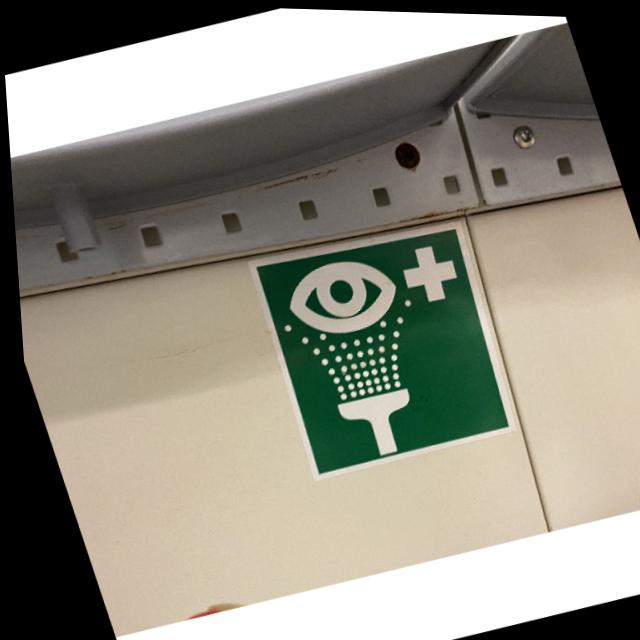eye shower: (240, 203, 525, 480)
